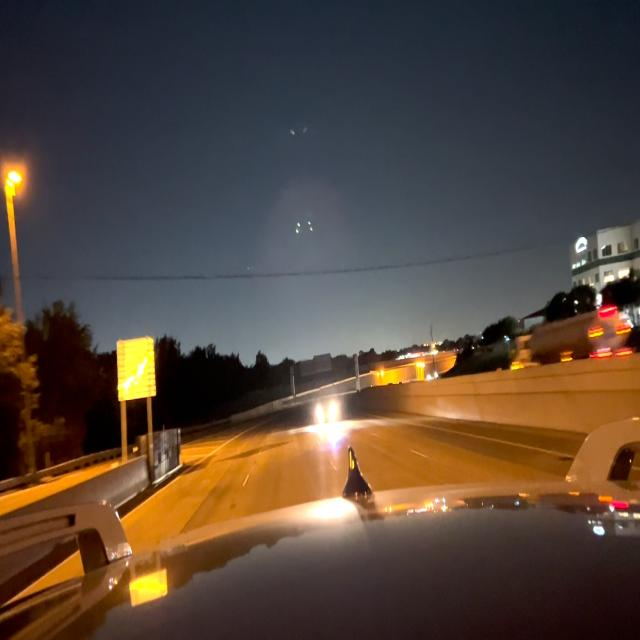back-of-sign: (118, 337, 158, 405)
